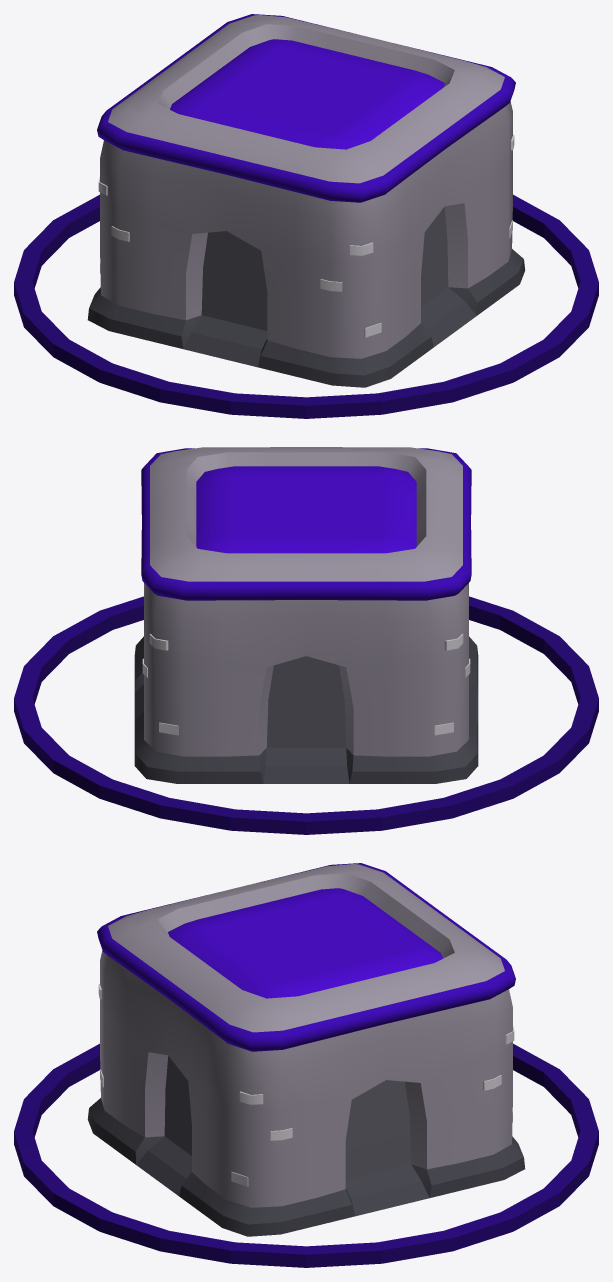
File: Spawn Building.fbx
The picture shows the model from 3 angles, top to bottom: view 1: azimuth 30°, elevation 25°; view 2: azimuth 150°, elevation 25°; view 3: azimuth 270°, elevation 25°; orthographic projection.
Parts seen in each view (by area): view 1: Spawn Building, Spawn Building Circle; view 2: Spawn Building, Spawn Building Circle; view 3: Spawn Building, Spawn Building Circle.
Part boxes in pixels (box(x1,y1,x2,y2)): Spawn Building: box(87, 14, 525, 387); Spawn Building Circle: box(14, 194, 598, 418); Spawn Building: box(134, 447, 478, 783); Spawn Building Circle: box(14, 596, 598, 834); Spawn Building: box(87, 863, 525, 1236); Spawn Building Circle: box(14, 1043, 598, 1267).
Size of the model in its own units: 730 by 730 by 288.
1 material, 1 textured.
